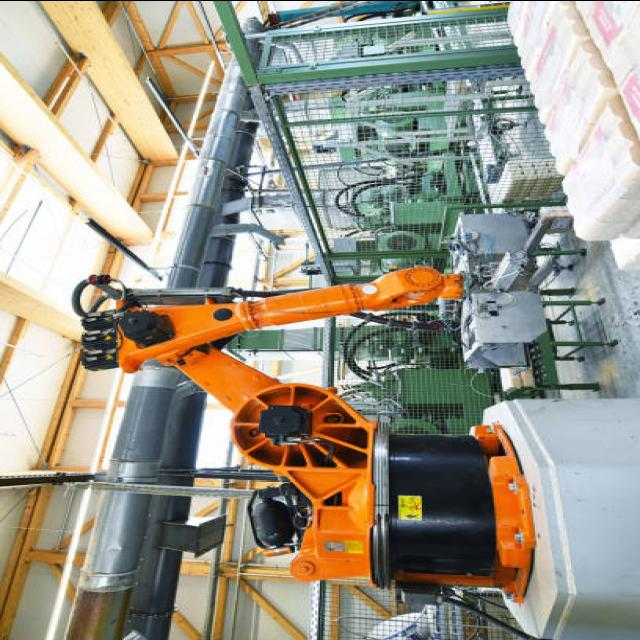Robotic-arm: (78, 264, 526, 594)
